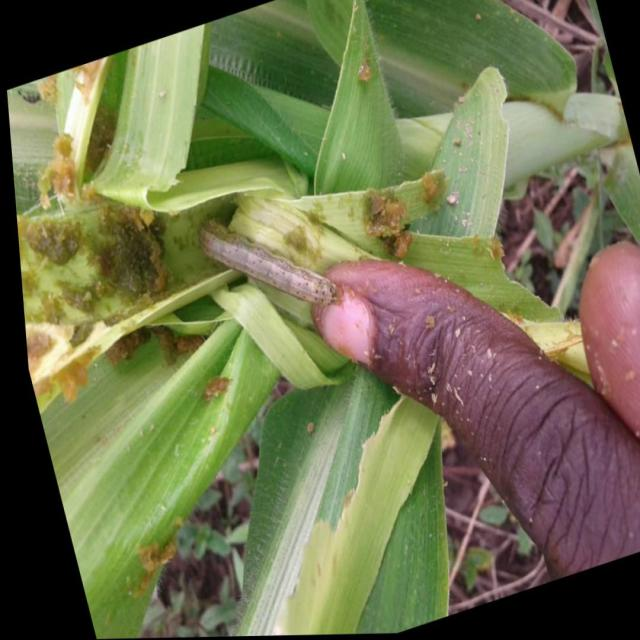yellow-stem-borer-larva: (179, 197, 342, 312)
